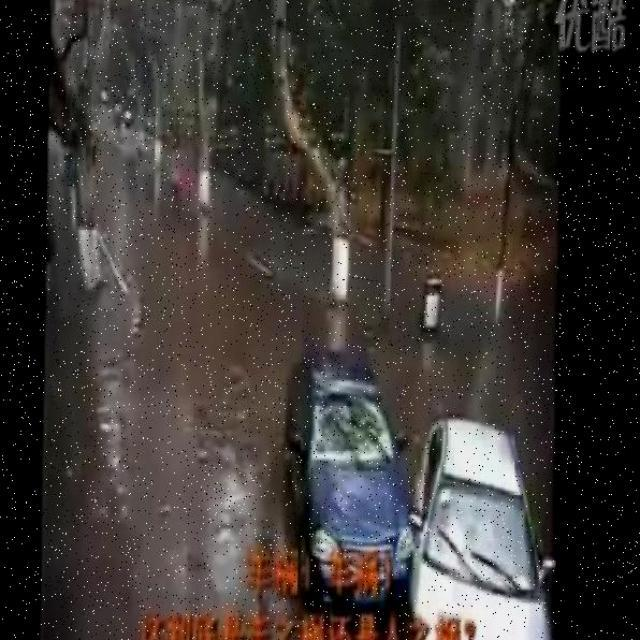accident: (296, 425, 537, 640)
